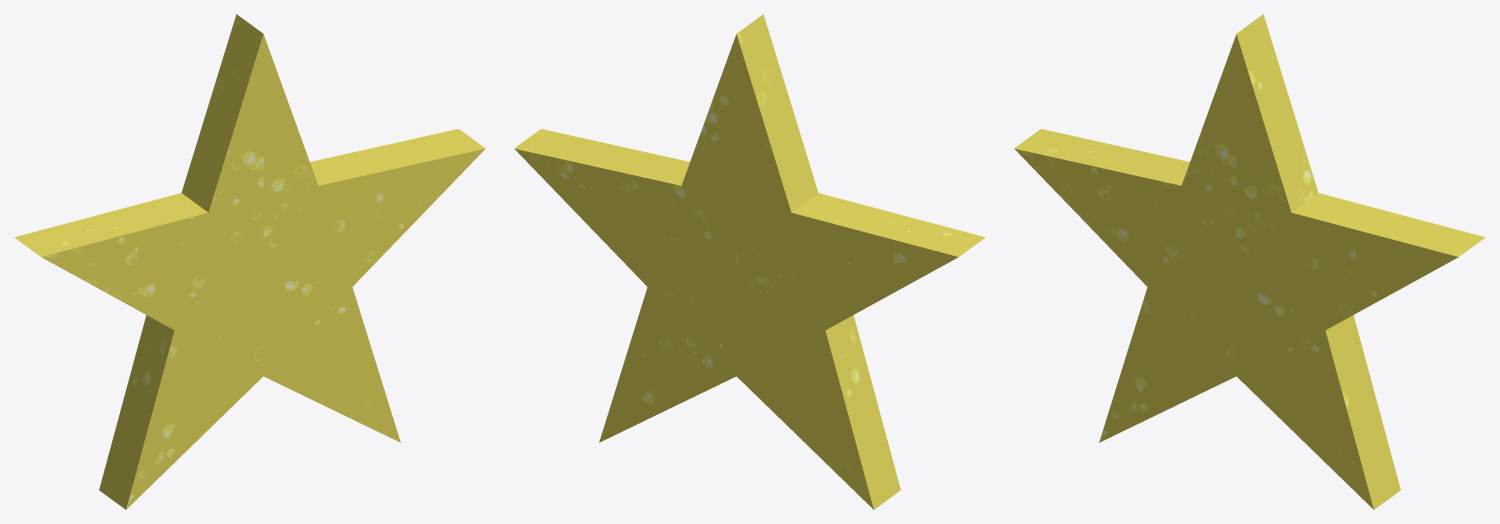
The model's file is star.obj.
3 renders of one model, left to right at view 1: azimuth 30°, elevation 25°; view 2: azimuth 150°, elevation 25°; view 3: azimuth 330°, elevation 25°, orthographic.
Parts seen in each view (by area): view 1: star_thick; view 2: star_thick; view 3: star_thick.
Part boxes in pixels (x1,y1,x2,y2): star_thick: (14,14,485,509); star_thick: (514,14,985,509); star_thick: (1014,14,1485,509).
Bounding box in the file's own units: 0.9636 × 0.9164 × 0.1013.
Materials: 1 (1 with a texture image).
